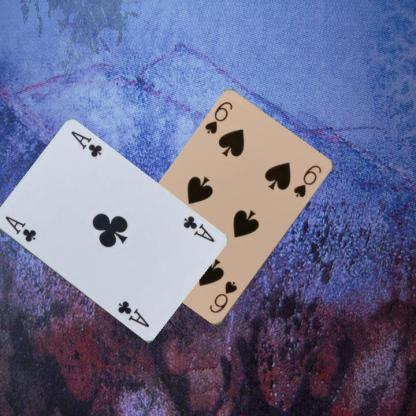6s: (202, 99, 234, 136), (207, 278, 238, 315)
Ac: (2, 213, 38, 244), (180, 213, 216, 244)
